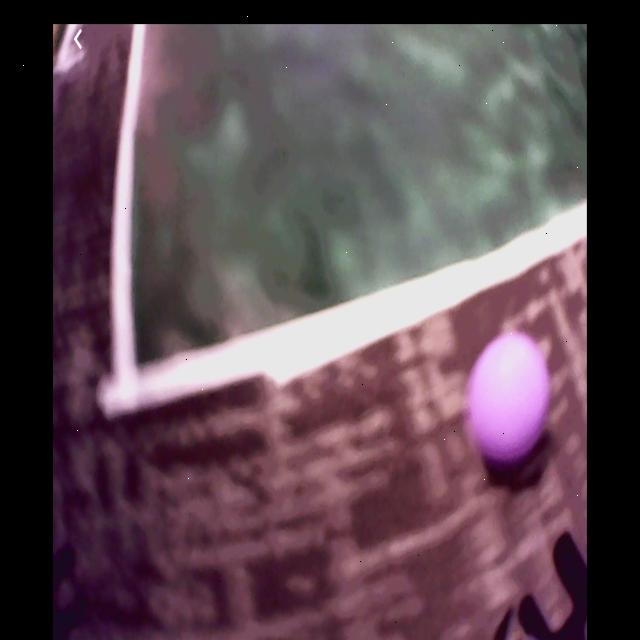ball: (468, 333, 552, 464)
